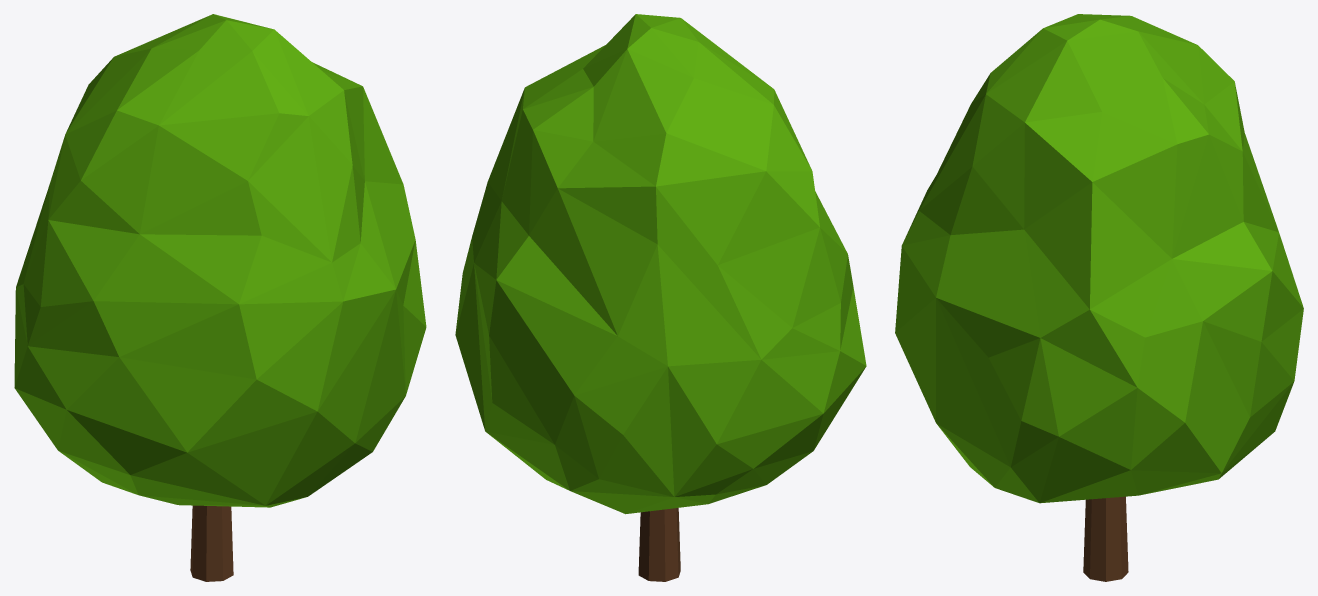
Rendered from ShrubTreeB.fbx.
3 renders of one model, left to right at view 1: azimuth 30°, elevation 25°; view 2: azimuth 150°, elevation 25°; view 3: azimuth 270°, elevation 25°, orthographic. The views are drawn at different scales.
Parts seen in each view (by area): view 1: ShrubTreeB_geo; view 2: ShrubTreeB_geo; view 3: ShrubTreeB_geo.
Boxes of the visible parts, box(x1,y1,x2,y2) form: ShrubTreeB_geo: box(14, 14, 426, 581); ShrubTreeB_geo: box(455, 14, 866, 581); ShrubTreeB_geo: box(895, 14, 1303, 581).
Bounding box in the file's own units: 327 × 466 × 309.
